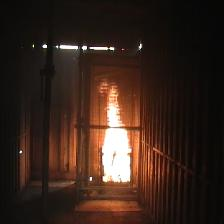fire: (99, 80, 131, 182)
